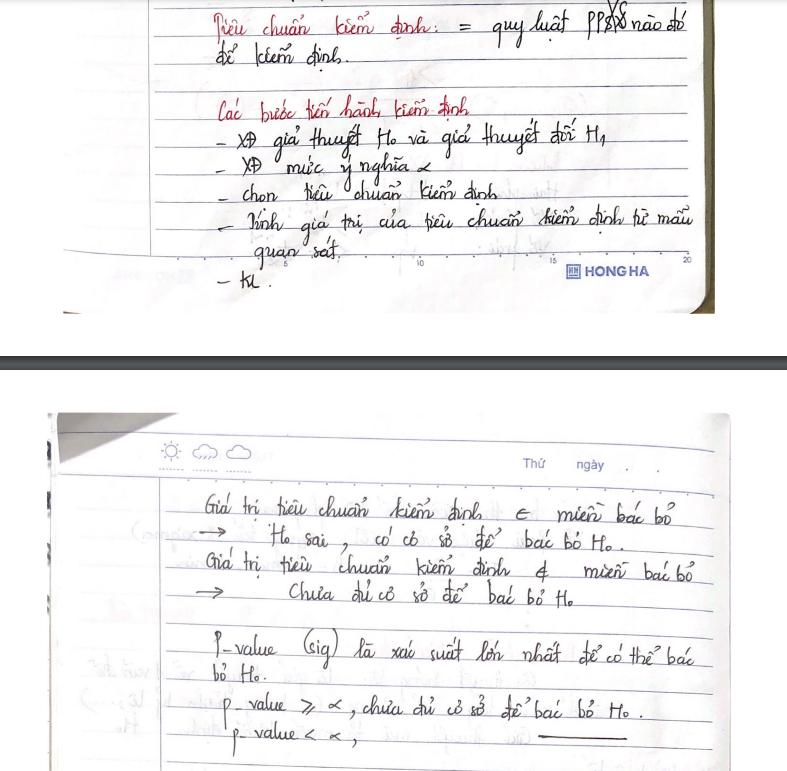text: (217, 202, 697, 249), (210, 626, 700, 672), (211, 3, 692, 49), (201, 489, 677, 530), (203, 543, 700, 582), (214, 116, 609, 160), (220, 691, 644, 731), (269, 521, 622, 557), (214, 178, 500, 212), (287, 577, 579, 610), (214, 151, 434, 192), (214, 90, 471, 124), (229, 719, 361, 761), (213, 40, 350, 72), (251, 234, 340, 272), (212, 659, 266, 689), (217, 271, 261, 296), (582, 263, 651, 278), (576, 457, 607, 473), (521, 456, 547, 471)
